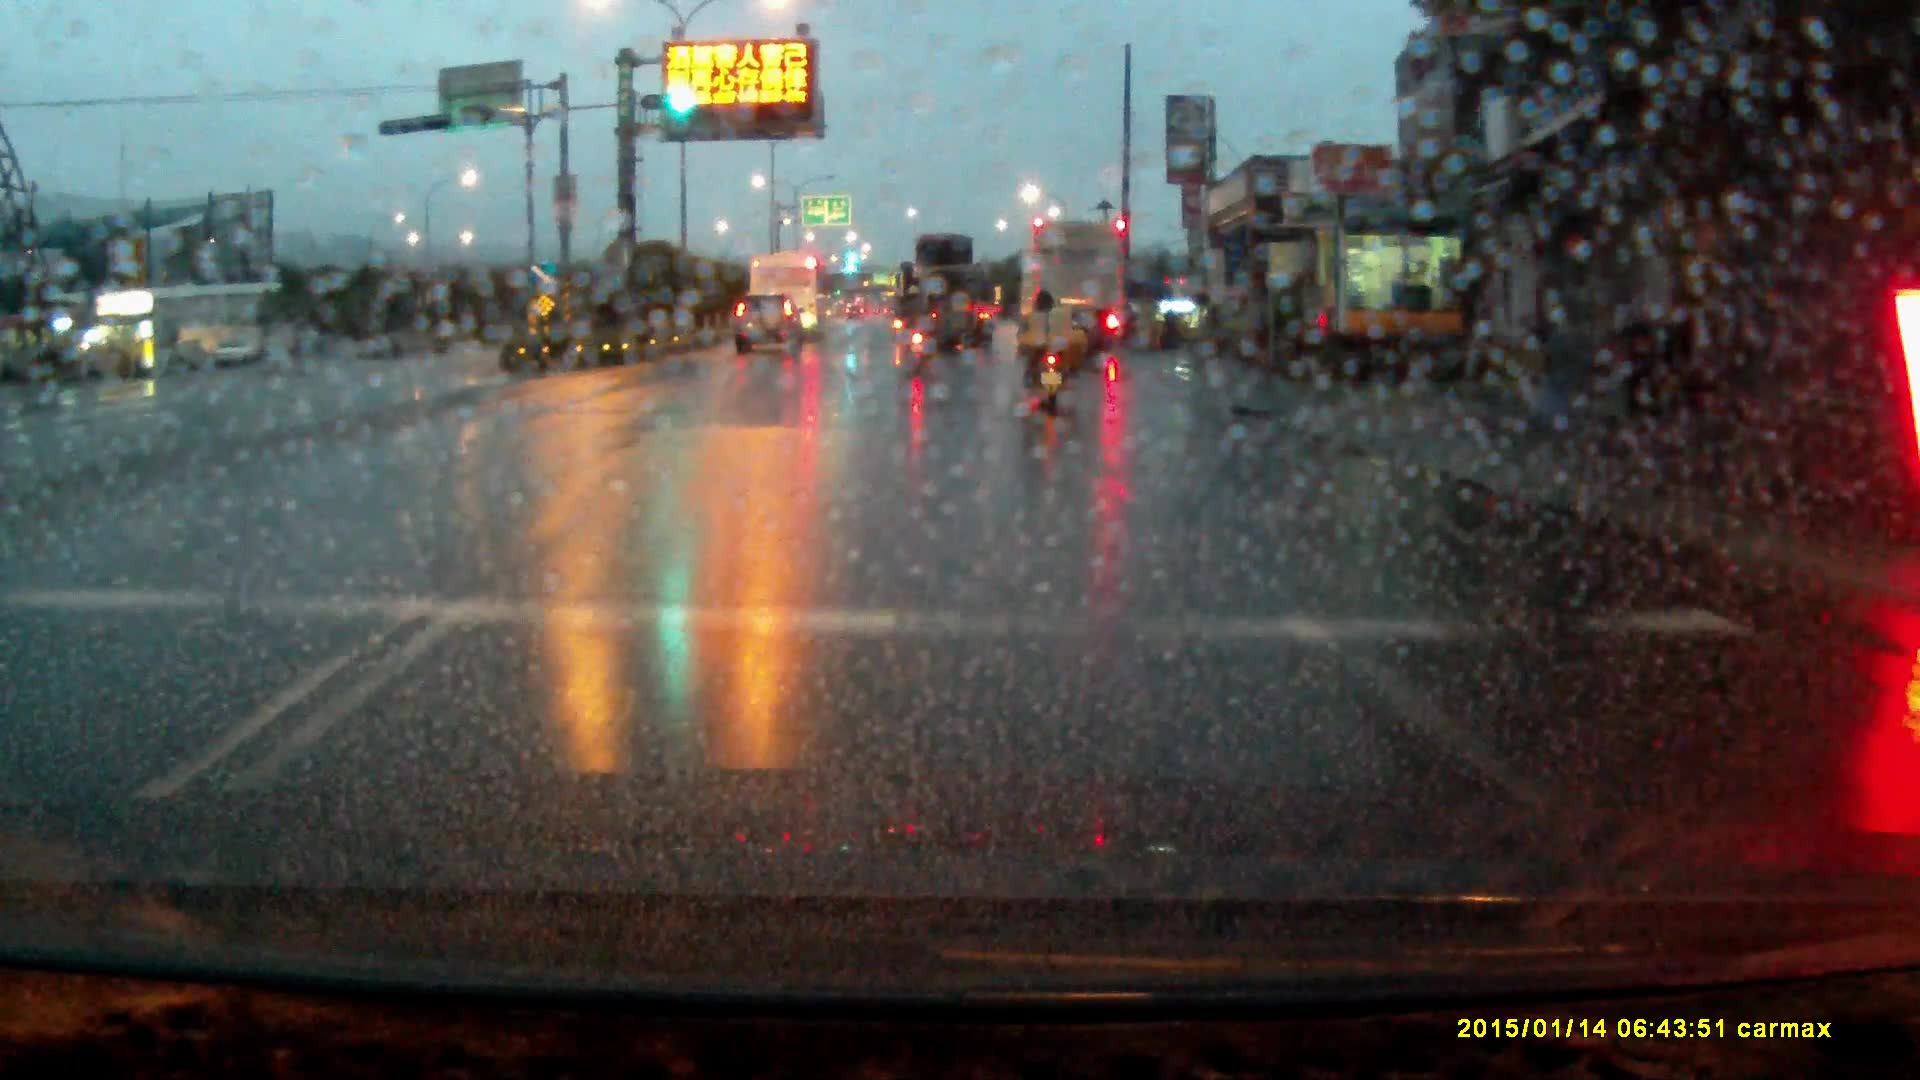rider: (1018, 285, 1085, 413), (901, 282, 938, 367)
vehicle: (1027, 219, 1125, 356), (899, 231, 997, 347), (755, 245, 830, 330), (732, 293, 807, 359)
